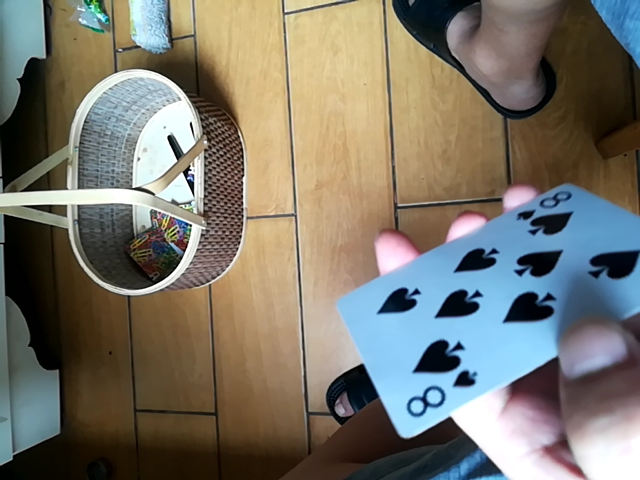ht 8: (335, 177, 640, 440)
